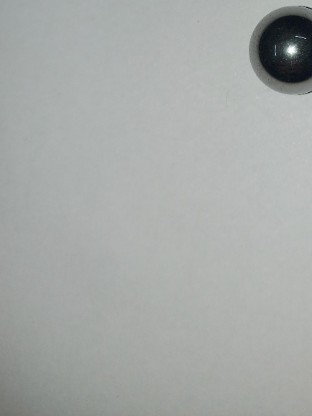ironball: (244, 0, 310, 100)
